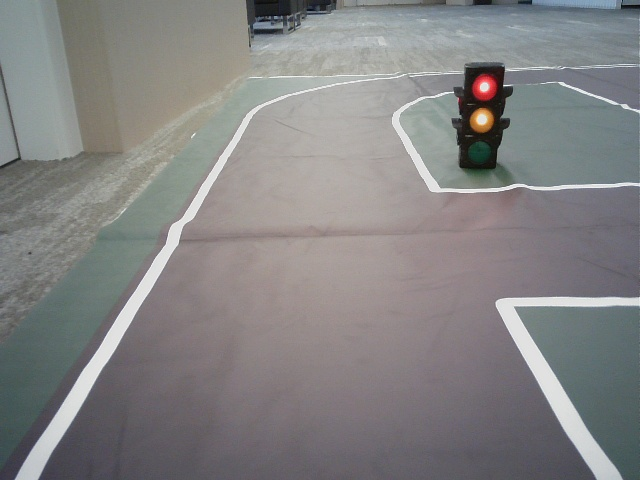red: (465, 69, 495, 164)
